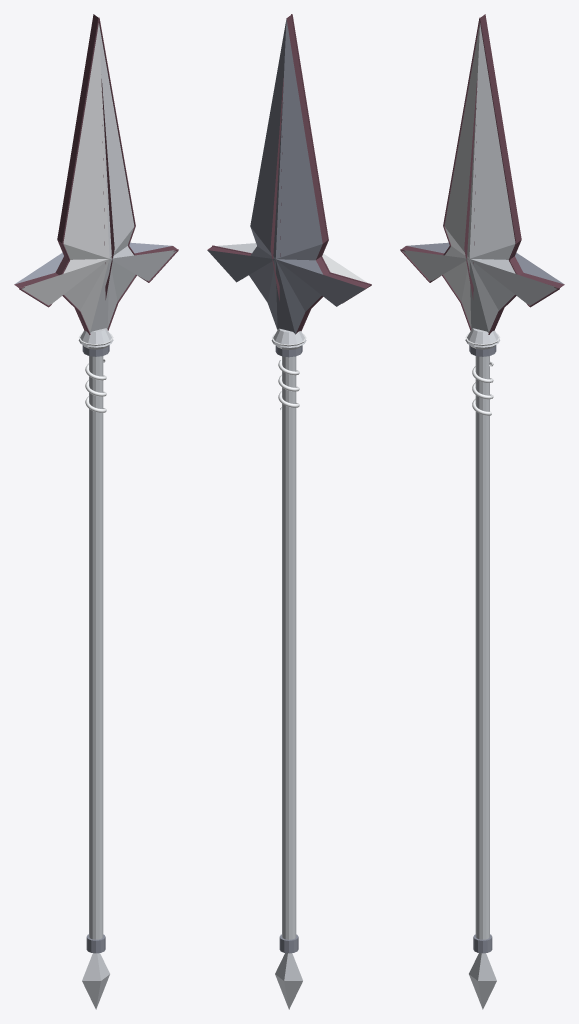
Rendered from vivi-lance.glb.
The picture shows the model from 3 angles, left to right: view 1: azimuth 30°, elevation 25°; view 2: azimuth 150°, elevation 25°; view 3: azimuth 330°, elevation 25°; orthographic projection.
Parts seen in each view (by area): view 1: Long mercury shaft, Faceted spearhead -1 16, Faceted spearhead -1 0, Burgundy steel edge 16, Faceted spearhead -1 12, Faceted spearhead -1 4, Pointed diamond butt, Faceted spearhead -1 10, Faceted spearhead -1 9, Faceted spearhead -1 8, Recessed diamond channel -1, Faceted spearhead -1 6 (+4 smaller); view 2: Long mercury shaft, Faceted spearhead 1 16, Faceted spearhead 1 0, Burgundy steel edge 16, Faceted spearhead 1 12, Faceted spearhead 1 4, Pointed diamond butt, Faceted spearhead 1 10, Faceted spearhead 1 9, Faceted spearhead 1 8, Recessed diamond channel 1, Faceted spearhead 1 6 (+2 smaller); view 3: Long mercury shaft, Faceted spearhead -1 0, Faceted spearhead -1 16, Burgundy steel edge 0, Faceted spearhead -1 4, Faceted spearhead -1 12, Pointed diamond butt, Faceted spearhead -1 6, Faceted spearhead -1 7, Faceted spearhead -1 8, Recessed diamond channel -1, Faceted spearhead -1 10 (+4 smaller).
Part boxes in pixels (x1=…): Long mercury shaft: x1=89, y1=356, x2=103, y2=939; Faceted spearhead -1 16: x1=63, y1=23, x2=109, y2=258; Faceted spearhead -1 0: x1=99, y1=24, x2=134, y2=258; Burgundy steel edge 16: x1=57, y1=14, x2=98, y2=242; Faceted spearhead -1 12: x1=21, y1=259, x2=108, y2=305; Faceted spearhead -1 4: x1=110, y1=250, x2=175, y2=280; Pointed diamond butt: x1=82, y1=953, x2=109, y2=1009; Faceted spearhead -1 10: x1=64, y1=259, x2=108, y2=310; Faceted spearhead -1 9: x1=80, y1=259, x2=109, y2=332; Faceted spearhead -1 8: x1=90, y1=260, x2=109, y2=332; Recessed diamond channel -1: x1=101, y1=79, x2=114, y2=299; Faceted spearhead -1 6: x1=109, y1=259, x2=135, y2=301; Long mercury shaft: x1=282, y1=356, x2=296, y2=939; Faceted spearhead 1 16: x1=275, y1=19, x2=322, y2=258; Faceted spearhead 1 0: x1=250, y1=20, x2=286, y2=258; Burgundy steel edge 16: x1=286, y1=15, x2=327, y2=243; Faceted spearhead 1 12: x1=276, y1=259, x2=365, y2=306; Faceted spearhead 1 4: x1=207, y1=250, x2=274, y2=282; Pointed diamond butt: x1=275, y1=953, x2=302, y2=1009; Faceted spearhead 1 10: x1=276, y1=260, x2=321, y2=311; Faceted spearhead 1 9: x1=276, y1=260, x2=305, y2=334; Faceted spearhead 1 8: x1=275, y1=260, x2=294, y2=333; Recessed diamond channel 1: x1=270, y1=78, x2=283, y2=300; Faceted spearhead 1 6: x1=249, y1=259, x2=275, y2=302; Long mercury shaft: x1=475, y1=356, x2=489, y2=939; Faceted spearhead -1 0: x1=469, y1=23, x2=515, y2=258; Faceted spearhead -1 16: x1=444, y1=24, x2=479, y2=258; Burgundy steel edge 0: x1=480, y1=14, x2=521, y2=242; Faceted spearhead -1 4: x1=470, y1=259, x2=557, y2=305; Faceted spearhead -1 12: x1=403, y1=250, x2=468, y2=280; Pointed diamond butt: x1=469, y1=953, x2=496, y2=1009; Faceted spearhead -1 6: x1=470, y1=259, x2=514, y2=310; Faceted spearhead -1 7: x1=469, y1=259, x2=498, y2=332; Faceted spearhead -1 8: x1=469, y1=260, x2=488, y2=332; Recessed diamond channel -1: x1=464, y1=79, x2=477, y2=299; Faceted spearhead -1 10: x1=443, y1=259, x2=469, y2=301.
Bounding box in the file's own units: 0.4625 × 2.75 × 0.138.
